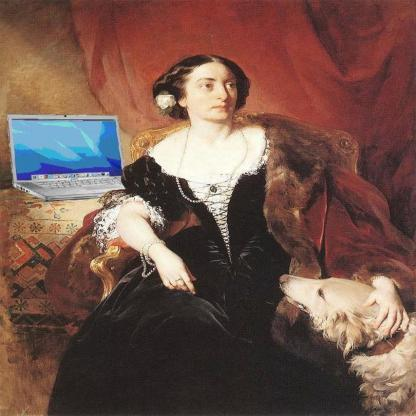board: (3, 103, 121, 198)
